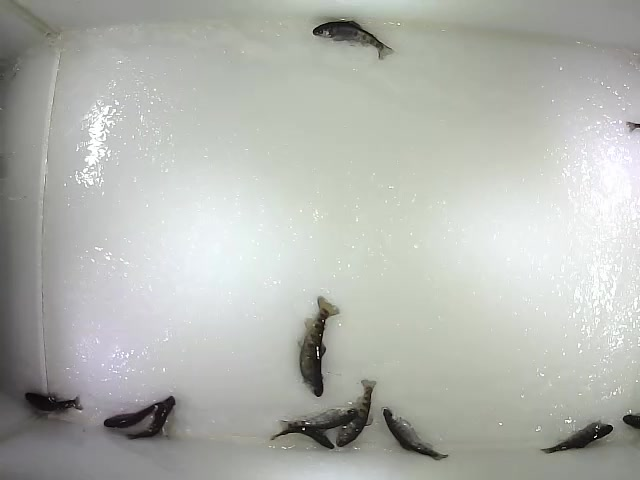fish: (295, 294, 342, 399), (382, 407, 451, 463), (311, 19, 397, 63), (335, 379, 378, 448), (538, 419, 615, 457), (125, 394, 176, 441), (276, 405, 361, 433), (103, 398, 166, 429), (268, 424, 335, 451), (24, 391, 86, 413)
